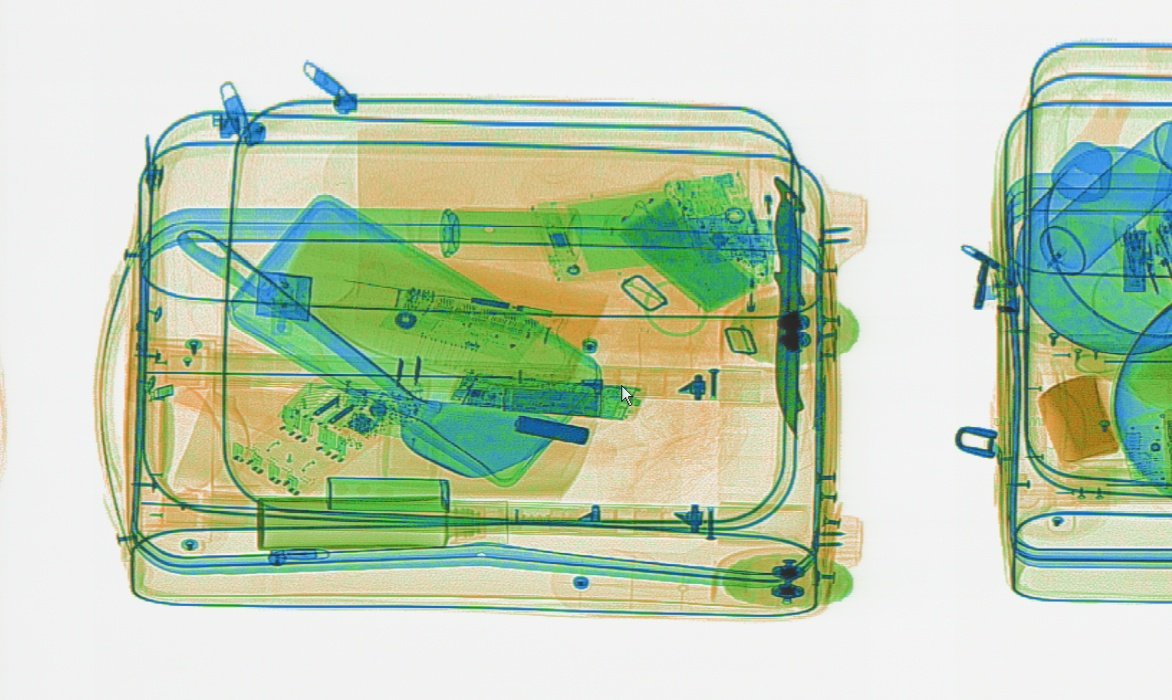knife: (766, 172, 806, 438)
lighter: (745, 160, 781, 255), (742, 250, 775, 339)
pressure: (1036, 124, 1169, 275)
